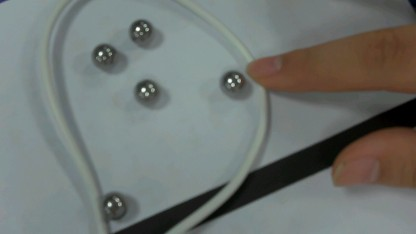ironball: (95, 182, 132, 219), (131, 75, 159, 109), (218, 70, 247, 98), (86, 41, 119, 64), (129, 17, 154, 45)
